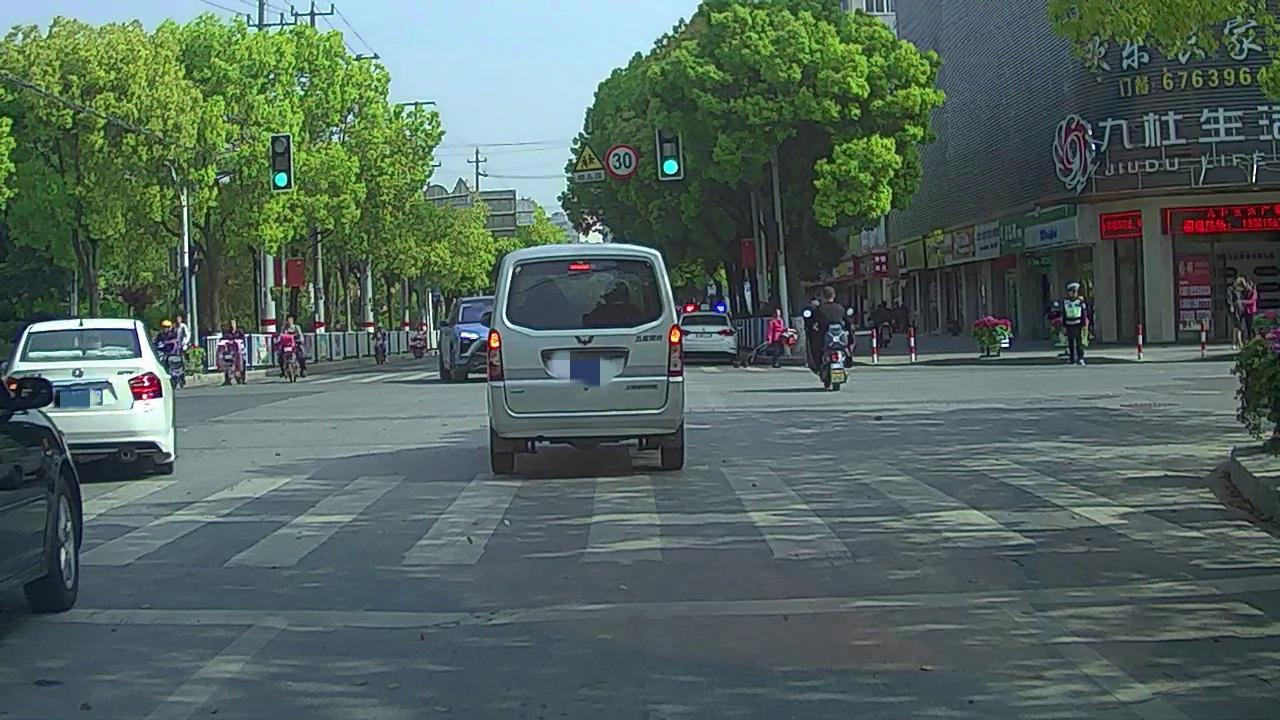traffic_light: (658, 120, 683, 179), (271, 135, 292, 189)
